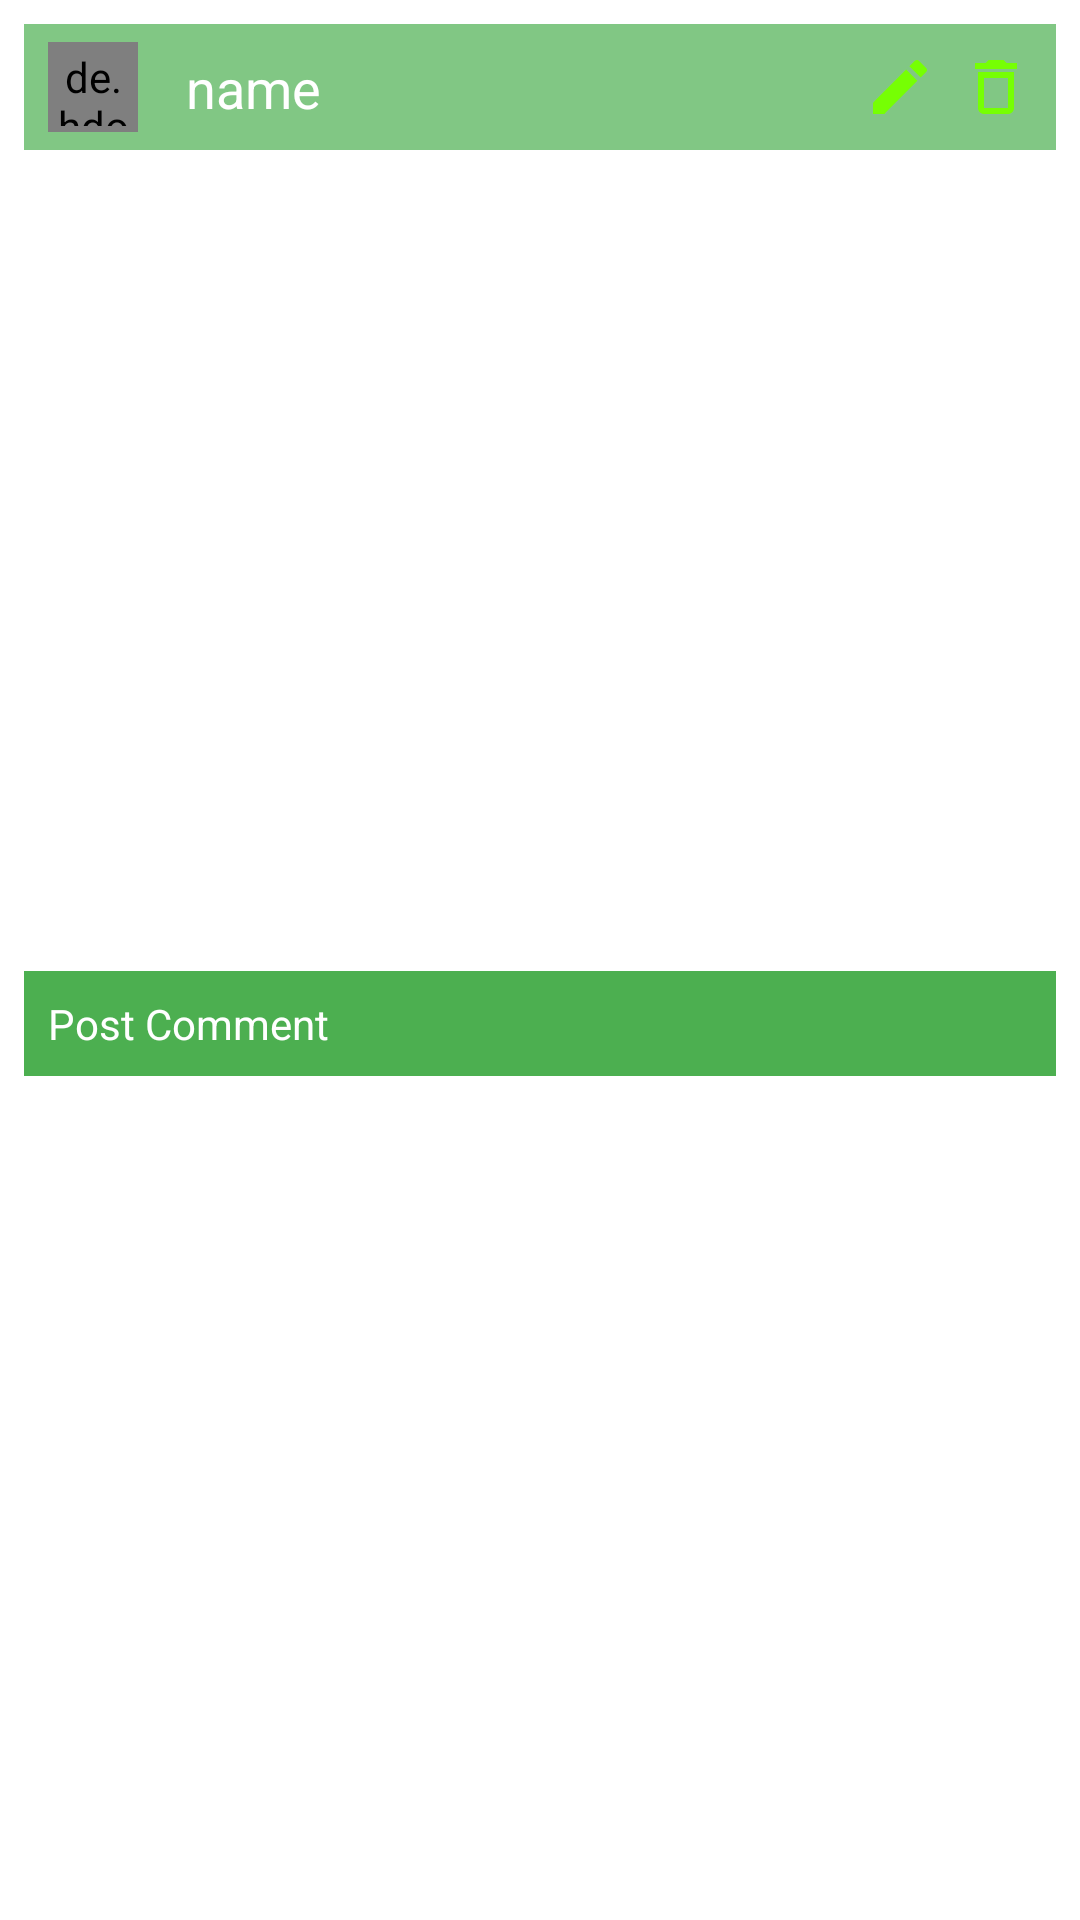

Where to tap for icons on this 1080px×1920px app screen, as (x=x, y=y):
delete: (x=996, y=87)
edit: (x=900, y=87)
